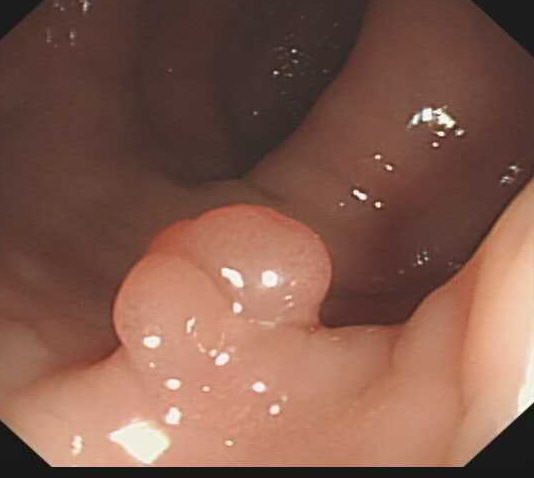others: (108, 200, 336, 410)
